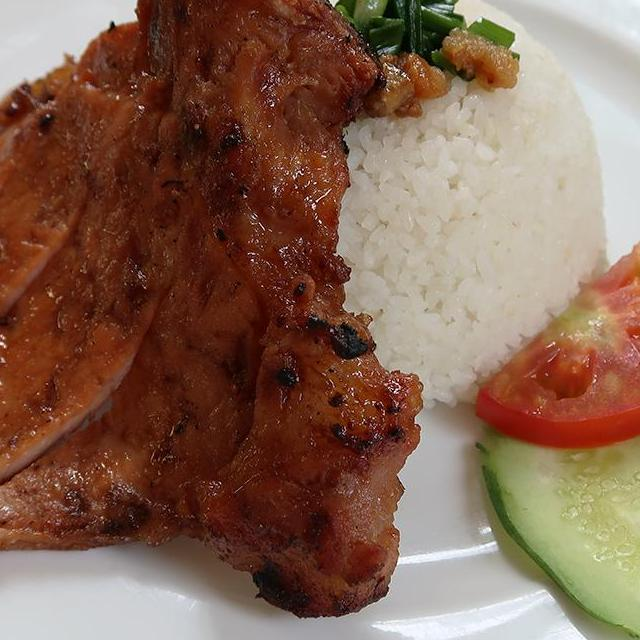com: (294, 0, 614, 417)
com suon: (0, 0, 640, 640)
suon: (0, 0, 452, 626)
